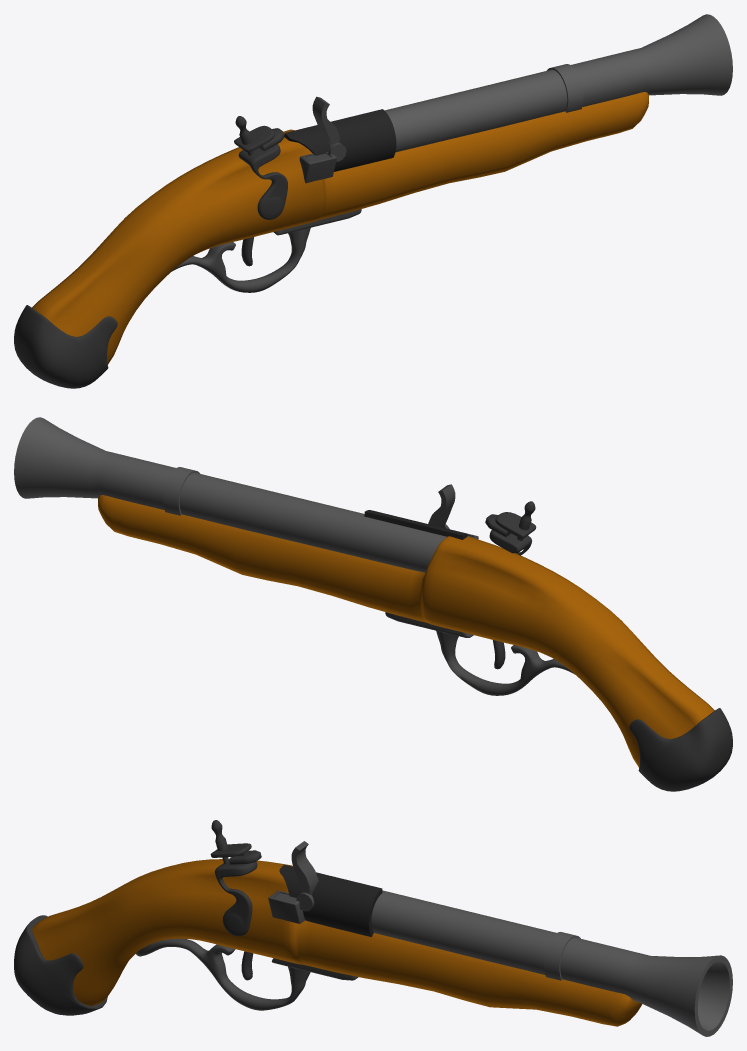
The model's file is Flintlock_Mesh.fbx.
3 views of the same model, one above another, from view 1: azimuth 30°, elevation 25°; view 2: azimuth 150°, elevation 25°; view 3: azimuth 330°, elevation 25° (orthographic).
Parts seen in each view (by area): view 1: Flintlock; view 2: Flintlock; view 3: Flintlock.
Part boxes in pixels (x1,y1,x2,y2): Flintlock: (14, 14, 732, 388); Flintlock: (14, 417, 732, 791); Flintlock: (14, 820, 732, 1036).
Bounding box in the file's own units: 0.6821 × 0.2236 × 0.0699.
